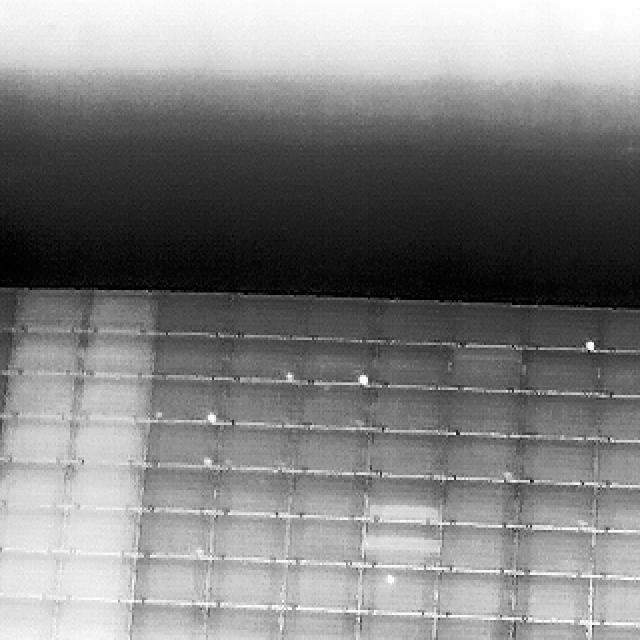Hotspots: (196, 448, 217, 472), (383, 569, 404, 589), (579, 334, 595, 354), (282, 368, 304, 382), (352, 367, 371, 383)
PV-modules: (512, 528, 592, 580), (219, 425, 305, 471), (206, 558, 285, 608), (286, 520, 366, 569), (516, 483, 595, 532), (213, 468, 290, 518), (140, 467, 218, 516), (283, 563, 361, 612), (372, 343, 453, 390), (517, 436, 596, 484), (212, 518, 290, 566), (362, 566, 438, 615), (372, 428, 451, 475), (442, 478, 516, 528), (7, 369, 81, 419), (132, 555, 209, 603), (154, 291, 238, 335), (291, 474, 369, 521), (515, 574, 591, 622), (136, 512, 212, 560), (448, 392, 524, 440), (366, 477, 447, 522), (13, 286, 92, 332), (156, 334, 234, 380), (226, 382, 304, 428), (524, 346, 602, 392), (296, 340, 374, 386), (363, 524, 441, 570), (372, 389, 448, 436), (442, 526, 516, 574), (70, 463, 144, 511), (437, 570, 514, 616), (447, 432, 522, 479), (380, 302, 458, 347), (303, 299, 382, 343), (65, 511, 138, 558), (232, 293, 308, 338), (450, 305, 526, 350), (78, 376, 153, 421), (142, 418, 215, 464), (74, 420, 147, 466), (295, 425, 369, 470), (233, 336, 305, 382), (11, 331, 86, 375), (452, 345, 525, 390), (520, 396, 598, 438), (520, 308, 596, 351), (85, 333, 156, 379), (5, 462, 70, 512), (58, 554, 128, 600), (302, 384, 369, 431), (6, 417, 74, 463), (152, 376, 223, 420), (124, 602, 206, 640), (54, 597, 126, 640), (92, 288, 159, 332), (3, 507, 68, 552), (202, 605, 282, 640), (0, 551, 57, 600), (588, 575, 640, 625), (278, 610, 358, 640), (590, 530, 640, 578), (592, 485, 640, 533), (0, 597, 52, 640), (594, 310, 640, 358), (358, 612, 434, 640), (596, 350, 640, 398), (592, 445, 640, 487), (598, 395, 640, 443), (432, 615, 512, 640), (508, 620, 590, 640), (584, 625, 640, 640), (0, 287, 18, 329), (0, 329, 15, 377)
